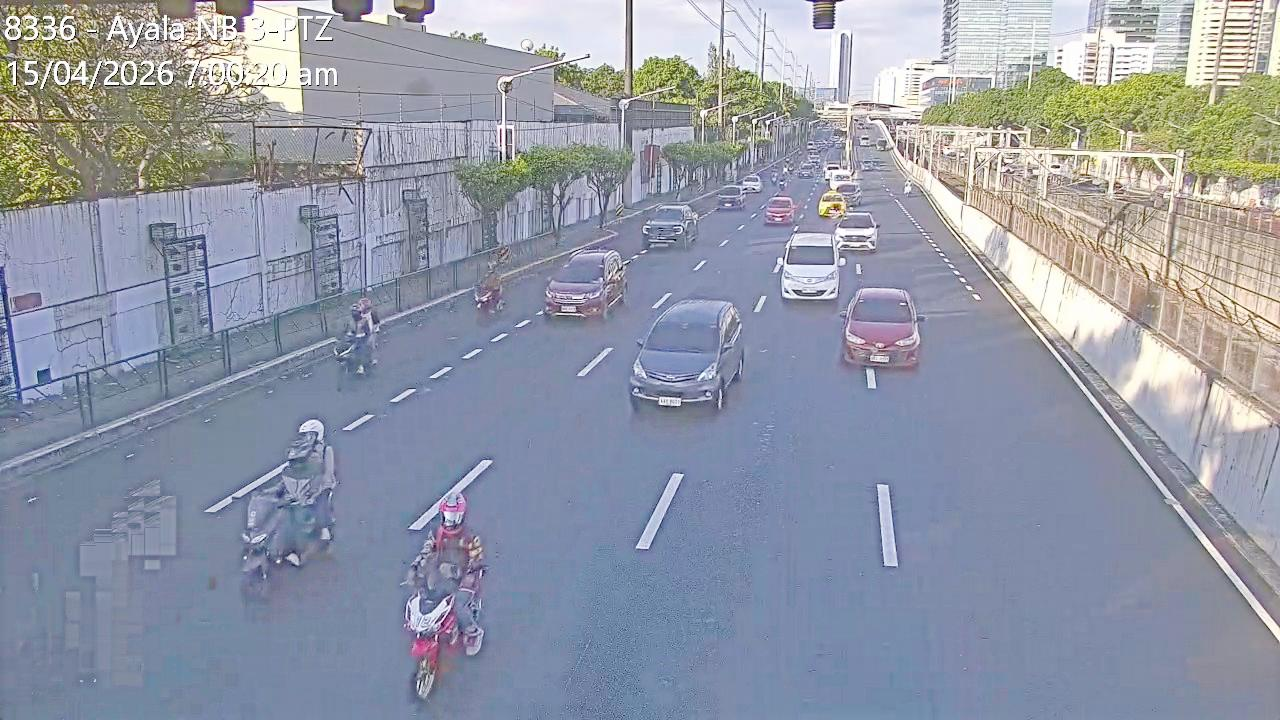Car: (632, 296, 744, 420), (847, 283, 921, 372), (546, 252, 628, 320), (781, 236, 842, 304), (642, 204, 698, 252), (836, 209, 879, 256), (763, 196, 795, 226), (718, 184, 742, 214), (836, 179, 862, 206), (819, 190, 845, 216), (744, 173, 761, 197)
Motor: (400, 490, 493, 700), (244, 418, 342, 586), (336, 309, 384, 385), (474, 253, 506, 333)
Not Accident: (468, 243, 623, 339), (778, 207, 878, 304), (717, 164, 794, 230)
